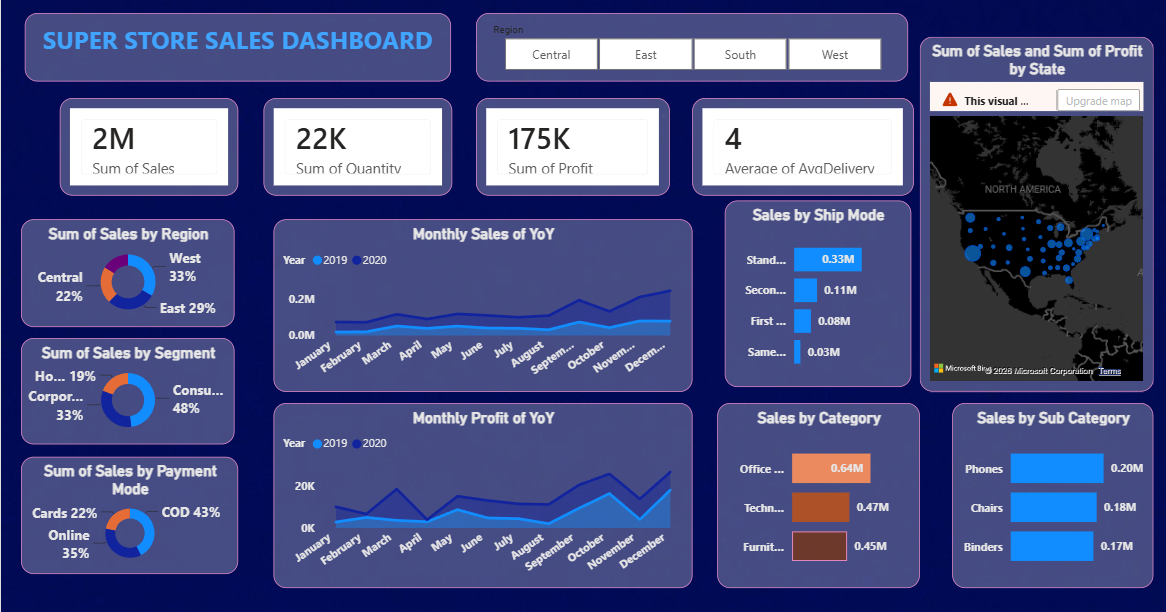

Layout of this report page (visuals, bound fields, positions):
{"tool":"powerbi","page":{"name":"SALES DASHBOARD","canvas":[1280,720],"ordinal":0},"visuals":[{"type":"clusteredBarChart","title":"Sales by Category","fields":{"Category":["SuperStore_Sales_Dataset (1).Category"],"Y":["Sum(SuperStore_Sales_Dataset (1).Sales)"]},"box":[786.3,488.5,222.3,203.1],"z":0},{"type":"clusteredBarChart","title":"Sales by Sub Category","fields":{"Y":["Sum(SuperStore_Sales_Dataset (1).Sales)"],"Category":["SuperStore_Sales_Dataset (1).Sub-Category"]},"box":[1044.3,488.5,220.9,203.1],"z":1000},{"type":"clusteredBarChart","title":"Sales by Ship Mode ","fields":{"Category":["SuperStore_Sales_Dataset (1).Ship Mode"],"Y":["Sum(SuperStore_Sales_Dataset (1).Sales)"]},"box":[794.5,266.2,204.5,204.5],"z":2000},{"type":"stackedAreaChart","title":"Monthly Sales of YoY","fields":{"Y":["Sum(SuperStore_Sales_Dataset (1).Sales)"],"Series":["SuperStore_Sales_Dataset (1).Order Date.Variation.Date Hierarchy.Year"],"Category":["SuperStore_Sales_Dataset (1).Order Date.Variation.Date Hierarchy.Month","SuperStore_Sales_Dataset (1).Order Date.Variation.Date Hierarchy.Day"]},"box":[299.1,286.8,459.7,189.4],"z":3000},{"type":"stackedAreaChart","title":"Monthly Profit of YoY","fields":{"Series":["SuperStore_Sales_Dataset (1).Order Date.Variation.Date Hierarchy.Year"],"Category":["SuperStore_Sales_Dataset (1).Order Date.Variation.Date Hierarchy.Month","SuperStore_Sales_Dataset (1).Order Date.Variation.Date Hierarchy.Day"],"Y":["Sum(SuperStore_Sales_Dataset (1).Profit)"]},"box":[299.1,488.5,459.7,203.1],"z":4000},{"type":"map","fields":{"Category":["SuperStore_Sales_Dataset (1).State"],"Size":["Sum(SuperStore_Sales_Dataset (1).Sales)"]},"box":[1008.6,86.4,256.6,389.7],"z":5000},{"type":"donutChart","fields":{"Category":["SuperStore_Sales_Dataset (1).Segment"],"Y":["Sum(SuperStore_Sales_Dataset (1).Sales)"]},"box":[22,417.2,234.6,116.6],"z":6000},{"type":"donutChart","fields":{"Category":["SuperStore_Sales_Dataset (1).Payment Mode","SuperStore_Sales_Dataset (1).Segment"],"Y":["Sum(SuperStore_Sales_Dataset (1).Sales)"]},"box":[22,547.5,238.8,129],"z":7000},{"type":"slicer","fields":{"Values":["SuperStore_Sales_Dataset (1).Region"]},"box":[521.4,60.4,474.8,75.5],"z":8000},{"type":"textbox","box":[26.1,60.4,467.9,75.5],"z":9000},{"type":"cardVisual","fields":{"Data":["Sum(SuperStore_Sales_Dataset (1).Sales)"]},"box":[64.5,153.7,196.2,107],"z":9001},{"type":"cardVisual","fields":{"Data":["Sum(SuperStore_Sales_Dataset (1).Profit)"]},"box":[521.4,153.7,212.7,107],"z":9002},{"type":"cardVisual","fields":{"Data":["Sum(SuperStore_Sales_Dataset (1).Quantity)"]},"box":[288.2,153.7,207.2,107],"z":9003},{"type":"cardVisual","fields":{"Data":["Avg(SuperStore_Sales_Dataset (1).AvgDelivery)"]},"box":[758.8,153.7,242.9,107],"z":9004},{"type":"donutChart","fields":{"Category":["SuperStore_Sales_Dataset (1).Region"],"Y":["Sum(SuperStore_Sales_Dataset (1).Sales)"]},"box":[22,286.8,234.6,118],"z":9005}]}

Visuals, with their boxes on the page's 1280x720 design canvas (x1, y1, x2, y2). These are canvas units, not pixel positions in the 1166x612 screenshot, which may show the page scaled, cropped or inside an application window:
"Sales by Category" clusteredBarChart: Rect(786, 488, 1009, 692)
"Sales by Sub Category" clusteredBarChart: Rect(1044, 488, 1265, 692)
"Sales by Ship Mode " clusteredBarChart: Rect(794, 266, 999, 471)
"Monthly Sales of YoY" stackedAreaChart: Rect(299, 287, 759, 476)
"Monthly Profit of YoY" stackedAreaChart: Rect(299, 488, 759, 692)
map - SuperStore_Sales_Dataset (1).State x Sum(SuperStore_Sales_Dataset (1).Sales): Rect(1009, 86, 1265, 476)
donutChart - SuperStore_Sales_Dataset (1).Segment x Sum(SuperStore_Sales_Dataset (1).Sales): Rect(22, 417, 257, 534)
donutChart - SuperStore_Sales_Dataset (1).Payment Mode x SuperStore_Sales_Dataset (1).Segment: Rect(22, 548, 261, 676)
slicer - SuperStore_Sales_Dataset (1).Region: Rect(521, 60, 996, 136)
textbox: Rect(26, 60, 494, 136)
cardVisual - Sum(SuperStore_Sales_Dataset (1).Sales): Rect(64, 154, 261, 261)
cardVisual - Sum(SuperStore_Sales_Dataset (1).Profit): Rect(521, 154, 734, 261)
cardVisual - Sum(SuperStore_Sales_Dataset (1).Quantity): Rect(288, 154, 495, 261)
cardVisual - Avg(SuperStore_Sales_Dataset (1).AvgDelivery): Rect(759, 154, 1002, 261)
donutChart - SuperStore_Sales_Dataset (1).Region x Sum(SuperStore_Sales_Dataset (1).Sales): Rect(22, 287, 257, 405)
